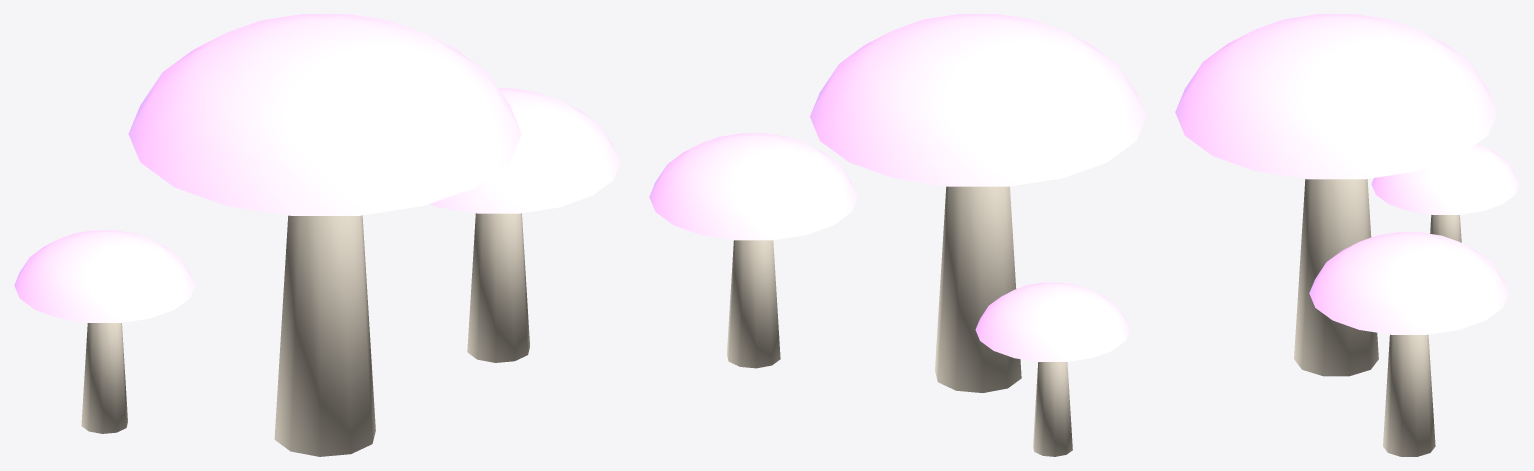
The model's file is les-houba-fialova.glb.
The picture shows the model from 3 angles, left to right: view 1: azimuth 30°, elevation 25°; view 2: azimuth 150°, elevation 25°; view 3: azimuth 270°, elevation 25°; orthographic projection. The views are drawn at different scales.
Parts seen in each view (by area): view 1: houba-fialova; view 2: houba-fialova; view 3: houba-fialova.
Part boxes in pixels (x1,y1,x2,y2): houba-fialova: [14, 14, 620, 456]; houba-fialova: [649, 14, 1146, 456]; houba-fialova: [1175, 14, 1519, 456].
Size of the model in its own units: 0.8628 by 0.5874 by 0.5682.
